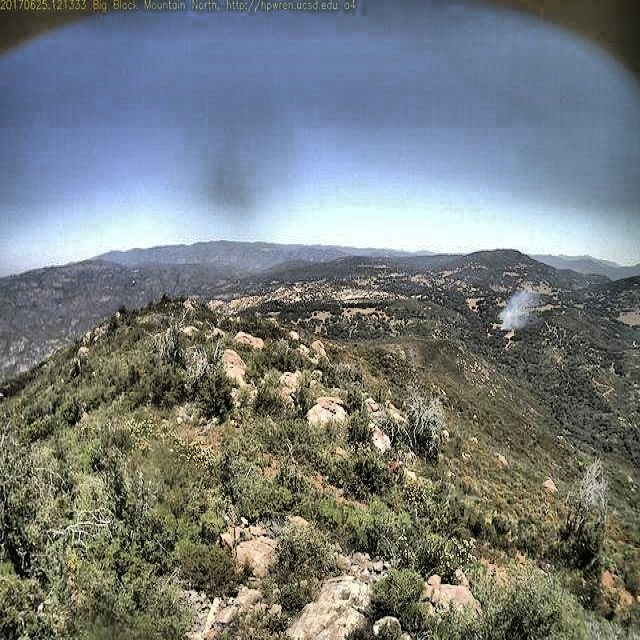smoke: (492, 277, 538, 335)
